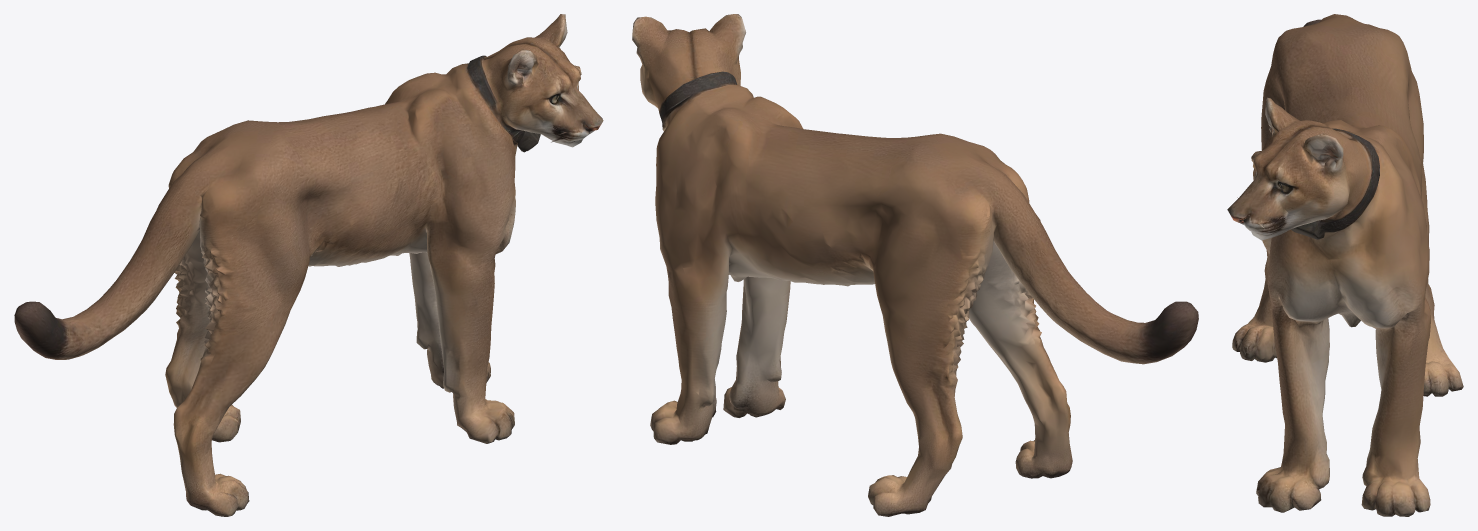
Rendered from SANDSTEP.glb.
The picture shows the model from 3 angles, left to right: view 1: azimuth 30°, elevation 25°; view 2: azimuth 150°, elevation 25°; view 3: azimuth 270°, elevation 25°; orthographic projection. The views are drawn at different scales.
Visible parts, largest first — view 1: tripo_node_57e53e9e-4067-4c0b-ad34-fdf3f029fe50; view 2: tripo_node_57e53e9e-4067-4c0b-ad34-fdf3f029fe50; view 3: tripo_node_57e53e9e-4067-4c0b-ad34-fdf3f029fe50.
Part boxes in pixels (left/top/right/bottom): tripo_node_57e53e9e-4067-4c0b-ad34-fdf3f029fe50: left=14, top=14, right=603, bottom=516; tripo_node_57e53e9e-4067-4c0b-ad34-fdf3f029fe50: left=632, top=14, right=1198, bottom=516; tripo_node_57e53e9e-4067-4c0b-ad34-fdf3f029fe50: left=1227, top=14, right=1463, bottom=516.
Bounding box in the file's own units: 1.51 × 1 × 0.5107.
1 material, 1 textured.
